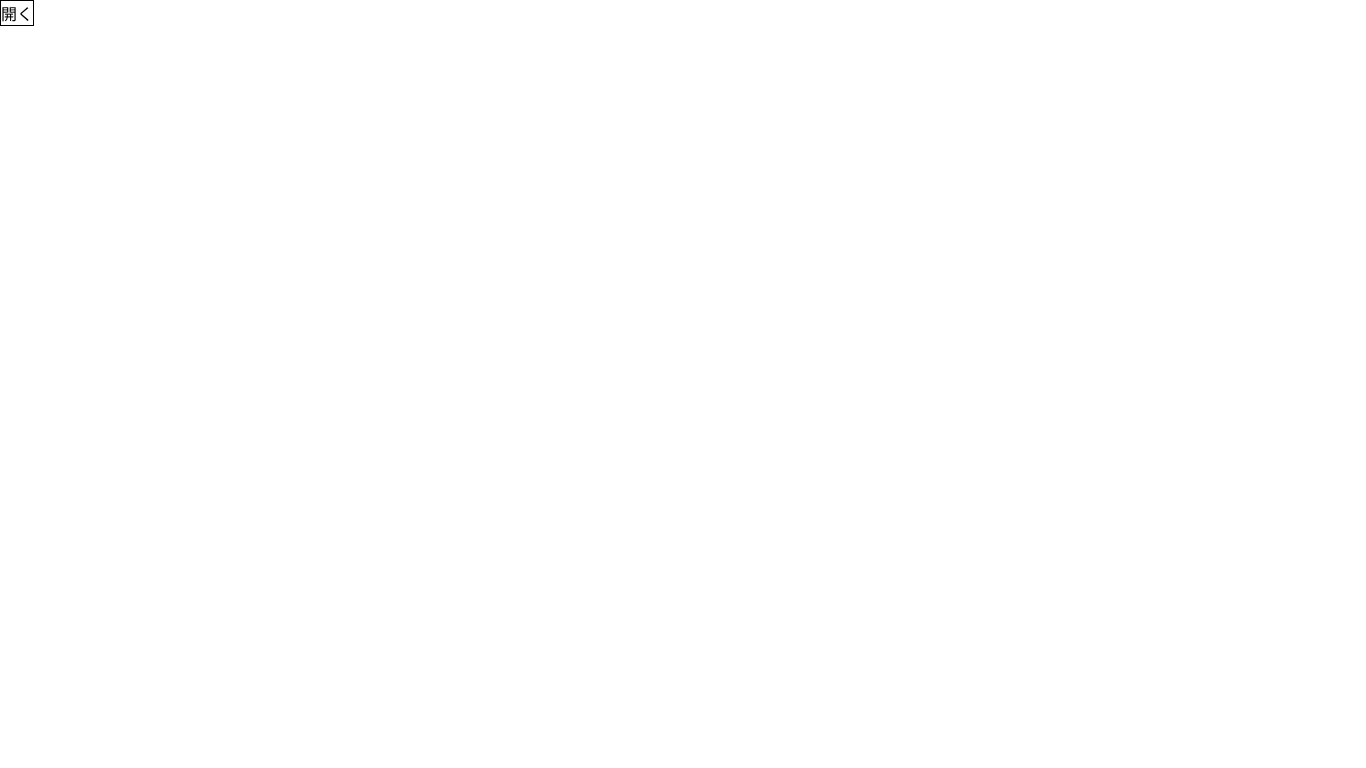
it: SearchField › leaves the text alone when Esc closes a dialog around it
This screenshot has width=1366, height=768.
Click the button "開く" at (17, 13), box top-left (0, 0), bottom-right (34, 26)
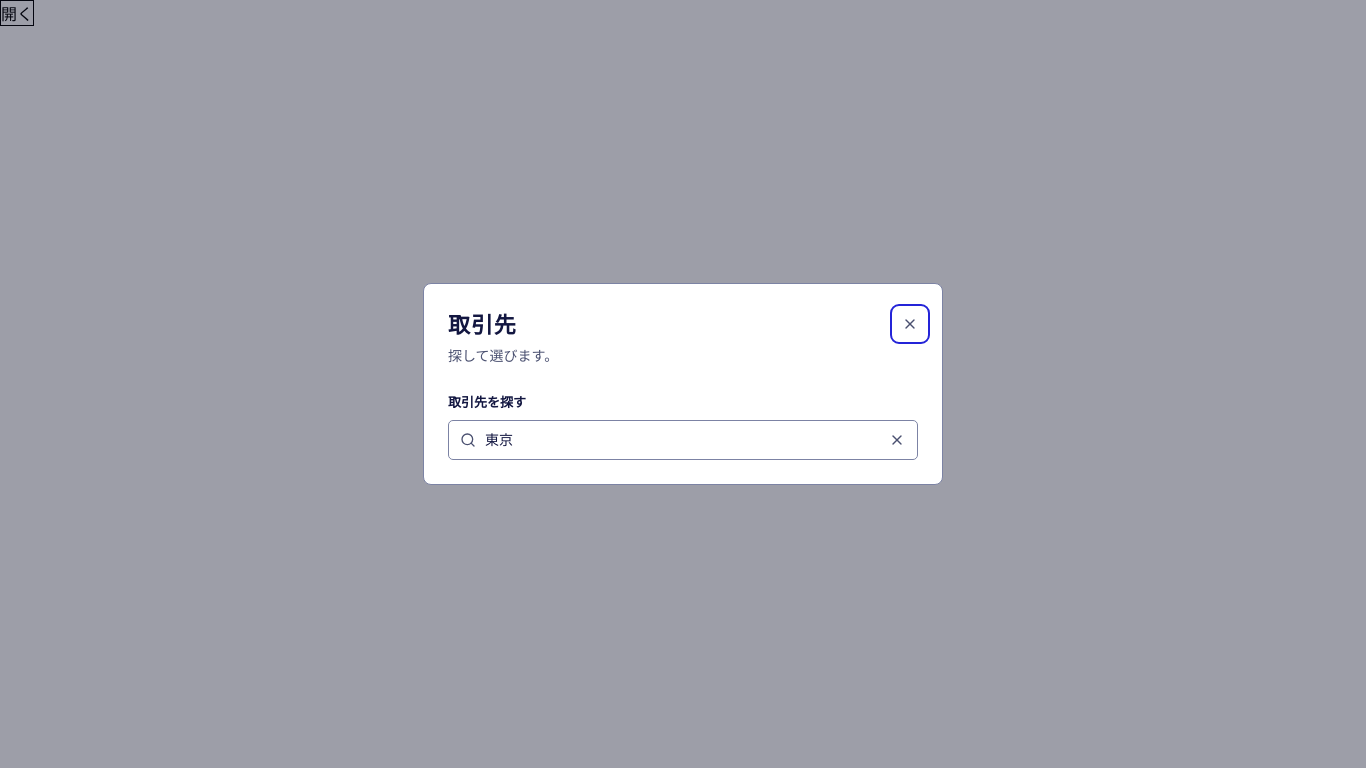
Click the search field labelled "取引先を探す" at (683, 440), box top-left (448, 420), bottom-right (918, 460)
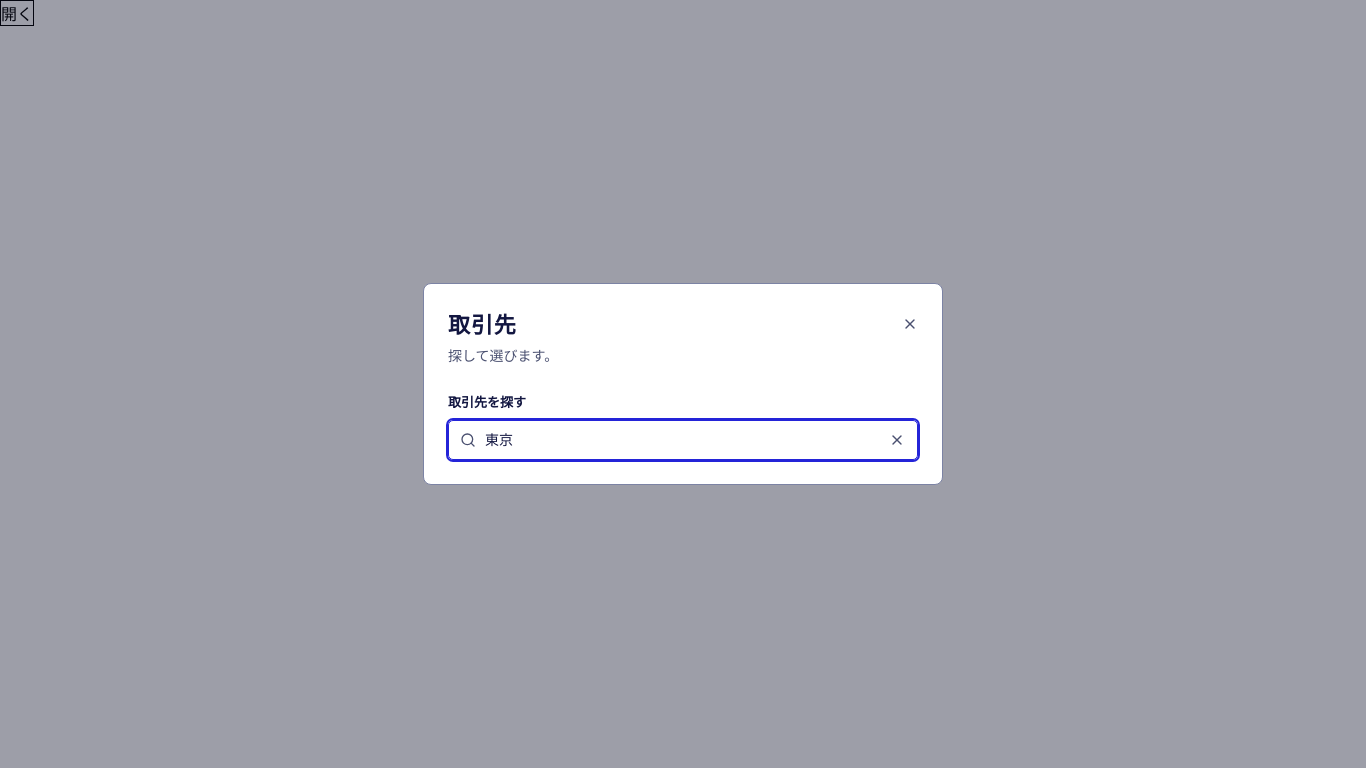
Press Escape
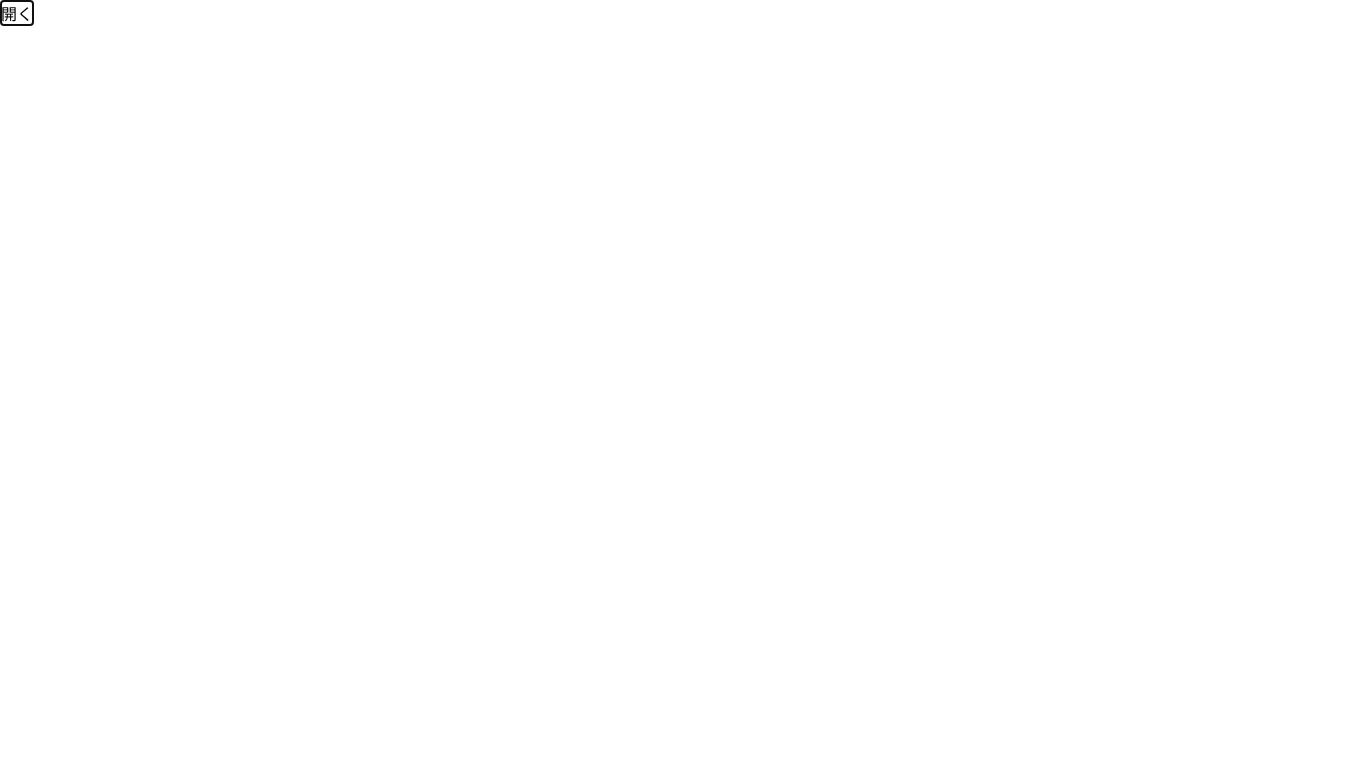
expect the dialog is gone: met
